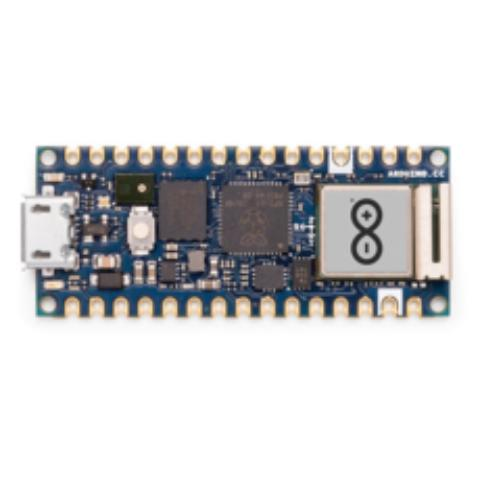Arduino-Nano: (8, 131, 470, 335)
